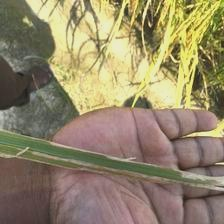Leaf_Blast: (6, 129, 221, 196)
